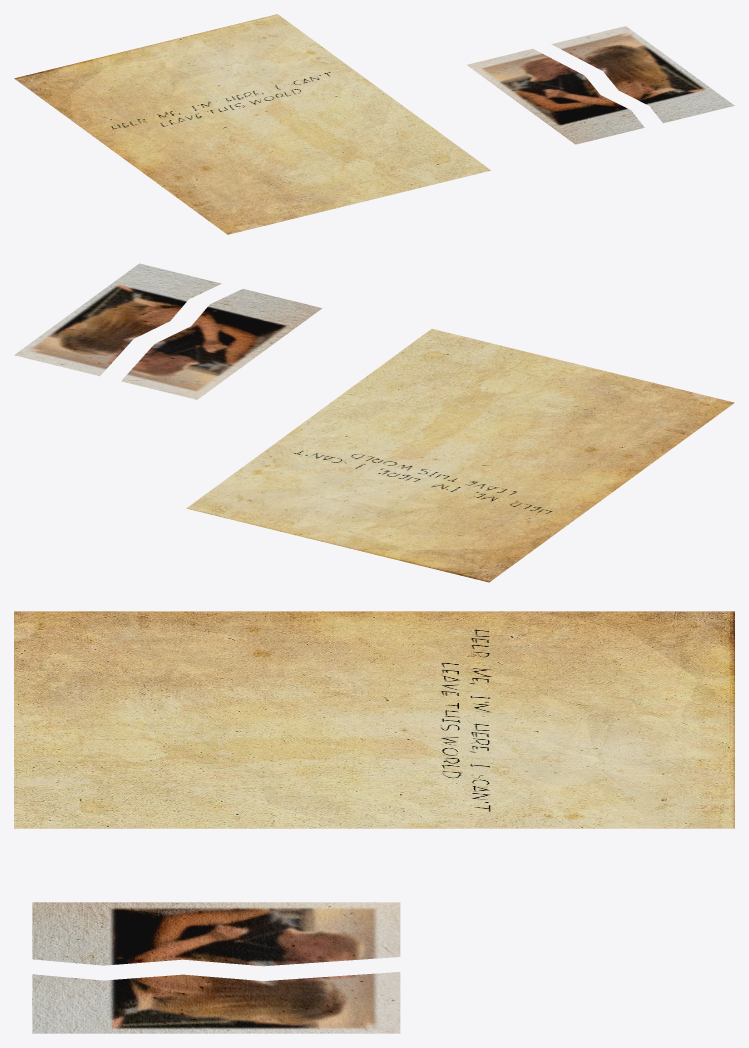
File: Notes.fbx
3 renders of one model, top to bottom at view 1: azimuth 30°, elevation 25°; view 2: azimuth 150°, elevation 25°; view 3: azimuth 270°, elevation 25°, orthographic. The views are drawn at different scales.
Parts seen in each view (by area): view 1: Cube.021, Cube.001, Cube.002; view 2: Cube.021, Cube.001, Cube.002; view 3: Cube.021, Cube.001, Cube.002.
Boxes of the visible parts, box(x1,y1,x2,y2) form: Cube.021: box(14, 14, 490, 234); Cube.001: box(467, 48, 644, 144); Cube.002: box(551, 26, 734, 123); Cube.021: box(186, 329, 734, 582); Cube.001: box(121, 289, 322, 399); Cube.002: box(14, 263, 221, 375); Cube.021: box(14, 611, 734, 828); Cube.001: box(32, 902, 400, 966); Cube.002: box(32, 972, 400, 1033).
Size of the model in its own units: 18.66 by 0.000338 by 13.47.
